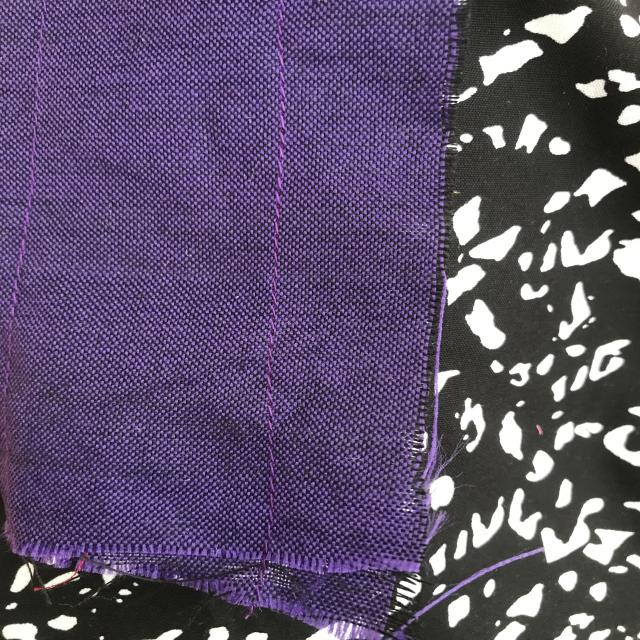good: (249, 192, 293, 334), (253, 376, 293, 524)
